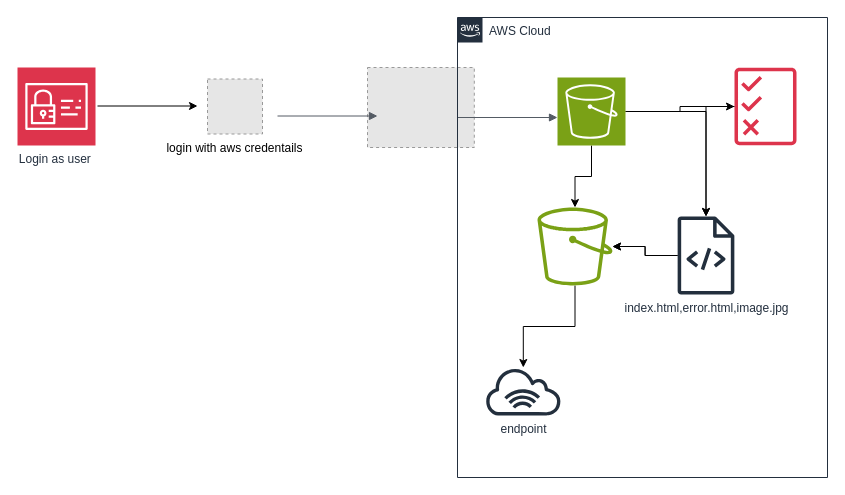
Some shapes in this 845 by 495 pixel diagram are drawn without their labels. Grey dashed boxes stand in for pictures. Each missing label, with the centre of its shape:
"Bucket with files" belongs at (x=574, y=246).
"IAM PERMISSIONS" belongs at (x=765, y=106).
